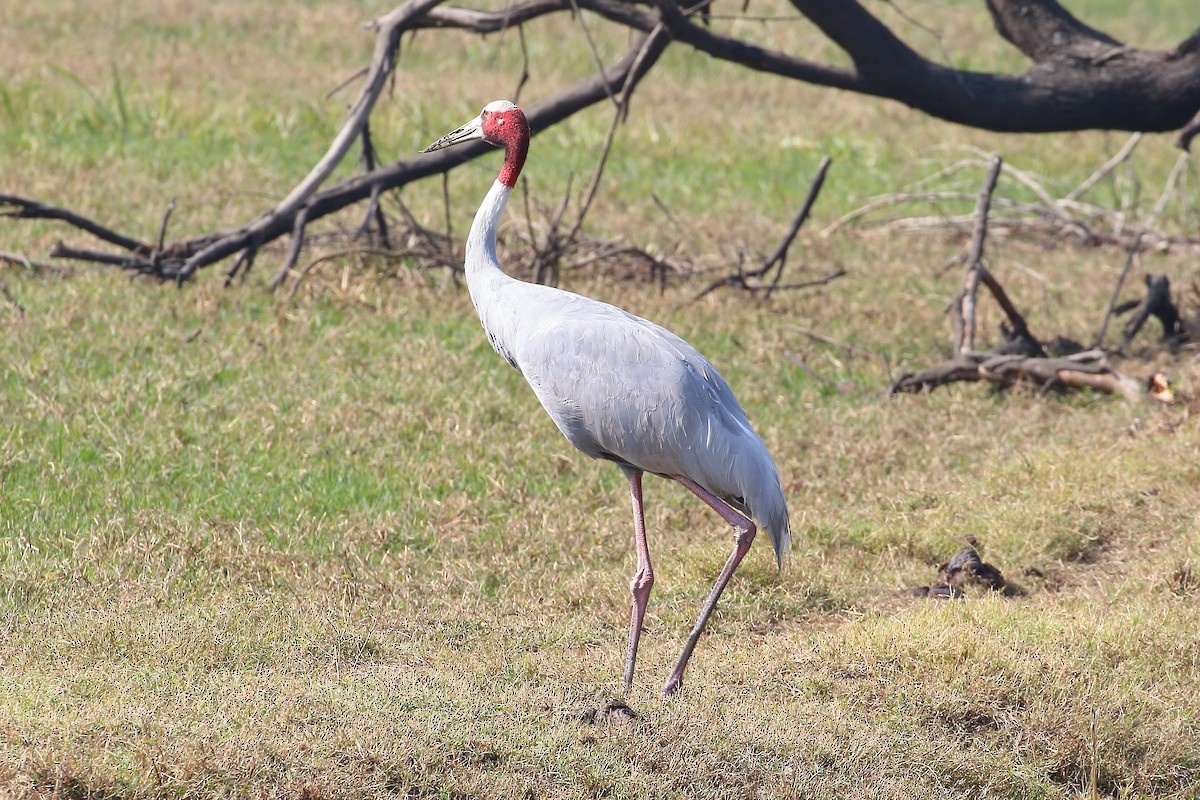crane: (427, 97, 789, 720)
